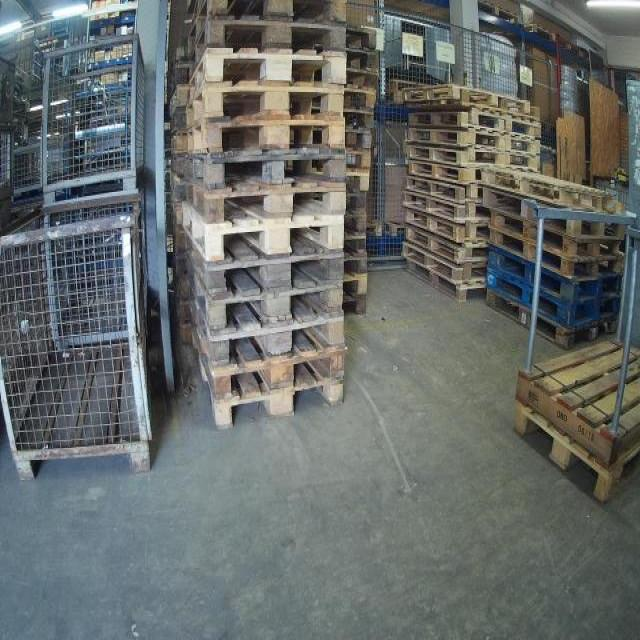pallet: (511, 398, 640, 502), (214, 380, 342, 434), (488, 189, 625, 238), (186, 87, 344, 128), (489, 292, 618, 342), (494, 249, 622, 299), (184, 221, 346, 260), (495, 232, 623, 280), (180, 148, 346, 185), (187, 59, 344, 97), (493, 213, 625, 258), (186, 25, 346, 62), (195, 284, 343, 324), (200, 325, 345, 365), (494, 169, 615, 215), (491, 275, 622, 317), (185, 188, 348, 221), (408, 106, 544, 140), (184, 120, 344, 147), (207, 363, 345, 392), (408, 128, 541, 155), (197, 260, 344, 282), (401, 84, 534, 108), (410, 147, 542, 171), (404, 245, 485, 283), (208, 1, 342, 23), (406, 261, 483, 299), (408, 228, 487, 264), (407, 210, 489, 243), (408, 176, 483, 204), (406, 196, 483, 220), (410, 162, 487, 184), (346, 87, 377, 112), (346, 49, 382, 70), (346, 30, 379, 49), (346, 70, 382, 87), (345, 112, 377, 131), (348, 172, 373, 194), (345, 131, 372, 150), (349, 150, 372, 172), (346, 195, 366, 219), (344, 240, 367, 260), (344, 260, 370, 277), (346, 219, 367, 240), (344, 276, 364, 298), (344, 298, 370, 313)
stillage: (5, 196, 163, 490), (36, 33, 156, 198), (38, 193, 156, 347)
